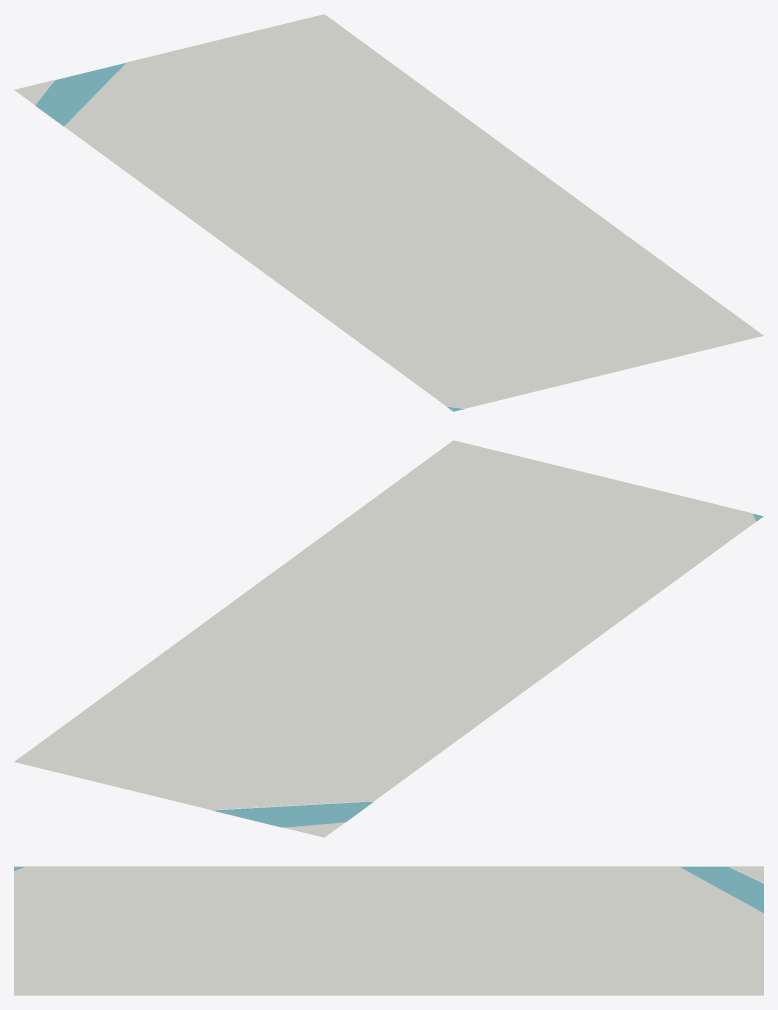
3 views of the same model, one above another, from view 1: azimuth 30°, elevation 25°; view 2: azimuth 150°, elevation 25°; view 3: azimuth 270°, elevation 25° (orthographic). The views are drawn at different scales.
Parts seen in each view (by area): view 1: city; view 2: city; view 3: city.
Part boxes in pixels (x1,y1,x2,y2): city: (14, 14, 763, 411); city: (14, 440, 763, 837); city: (14, 866, 763, 995).
Size of the model in its own units: 204 by 0.18 by 500.
